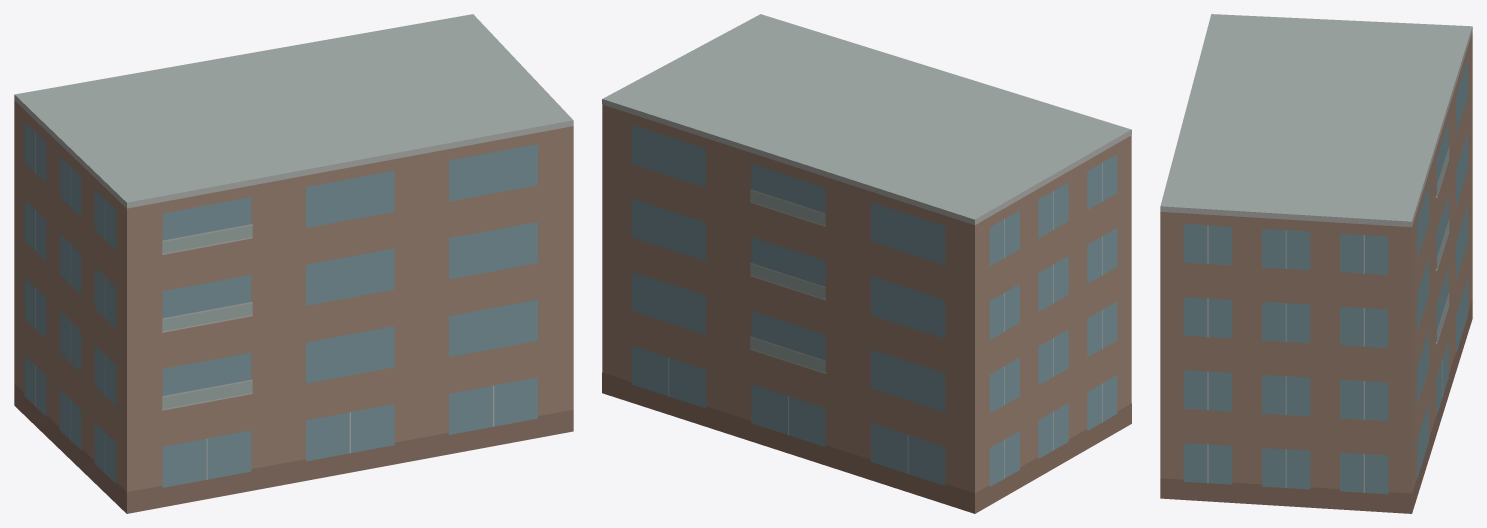
File: survey-upis-32962824.glb
The picture shows the model from 3 angles, left to right: view 1: azimuth 30°, elevation 25°; view 2: azimuth 150°, elevation 25°; view 3: azimuth 270°, elevation 25°; orthographic projection. The views are drawn at different scales.
Visible parts, largest first — view 1: survey-upis-32962824.tmp; view 2: survey-upis-32962824.tmp; view 3: survey-upis-32962824.tmp.
Part boxes in pixels (<box>): survey-upis-32962824.tmp: <box>14,14,573,513</box>; survey-upis-32962824.tmp: <box>602,14,1131,513</box>; survey-upis-32962824.tmp: <box>1160,14,1472,513</box>.
Size of the model in its own units: 19.81 by 12.99 by 12.59.
